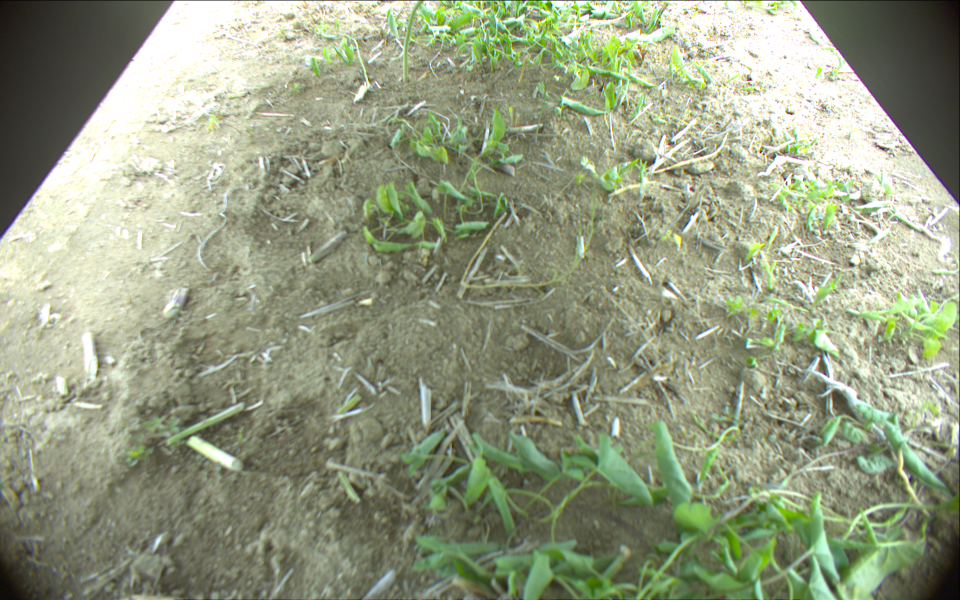aspa: (167, 402, 245, 448), (333, 27, 370, 87), (191, 437, 242, 472), (402, 1, 424, 82)
